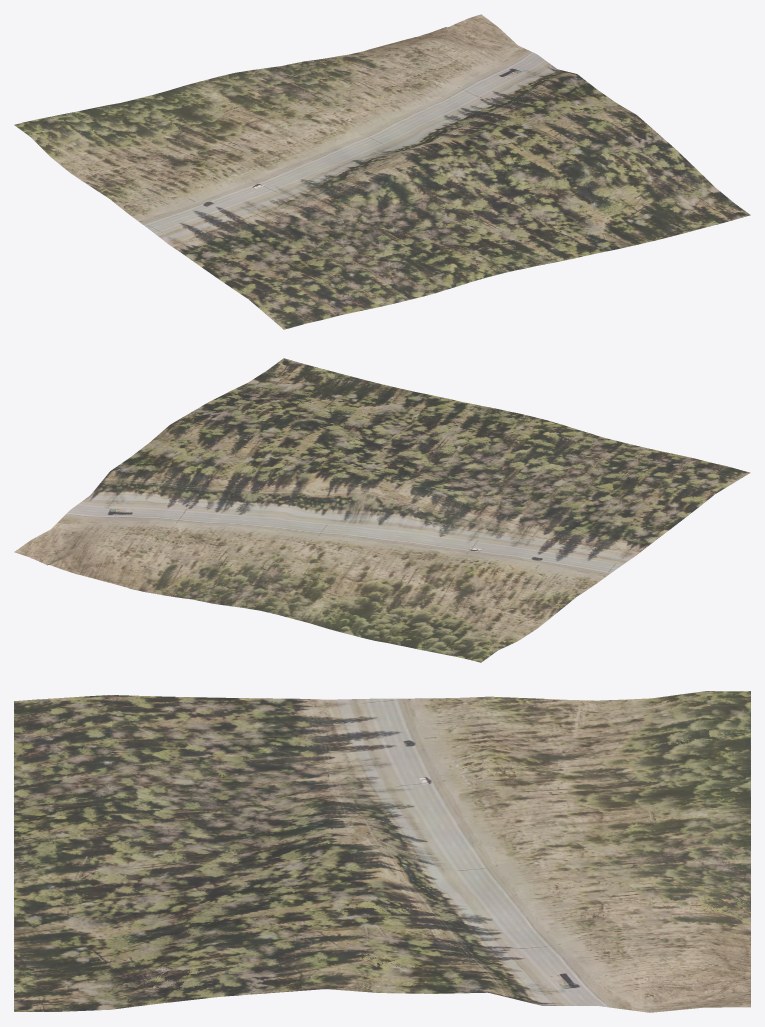
Rendered from CM_Terrain_24492097_6814060.fbx.
3 views of the same model, one above another, from view 1: azimuth 30°, elevation 25°; view 2: azimuth 150°, elevation 25°; view 3: azimuth 270°, elevation 25° (orthographic). The views are drawn at different scales.
Parts seen in each view (by area): view 1: CM_Terrain_24492097_6814060_LOD0; view 2: CM_Terrain_24492097_6814060_LOD0; view 3: CM_Terrain_24492097_6814060_LOD0.
Boxes of the visible parts, x1,y1,x2,y2 form: CM_Terrain_24492097_6814060_LOD0: [14, 14, 750, 329]; CM_Terrain_24492097_6814060_LOD0: [14, 358, 750, 662]; CM_Terrain_24492097_6814060_LOD0: [14, 691, 750, 1012].
Size of what is drawn, in the model's own units: 205 by 9.78 by 205.
